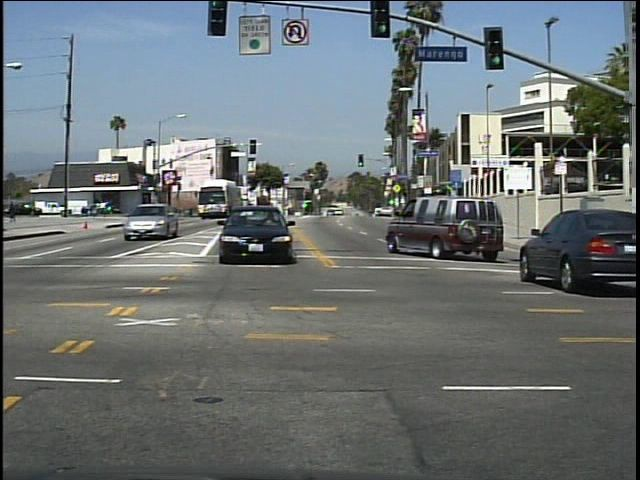person: (6, 199, 22, 227)
